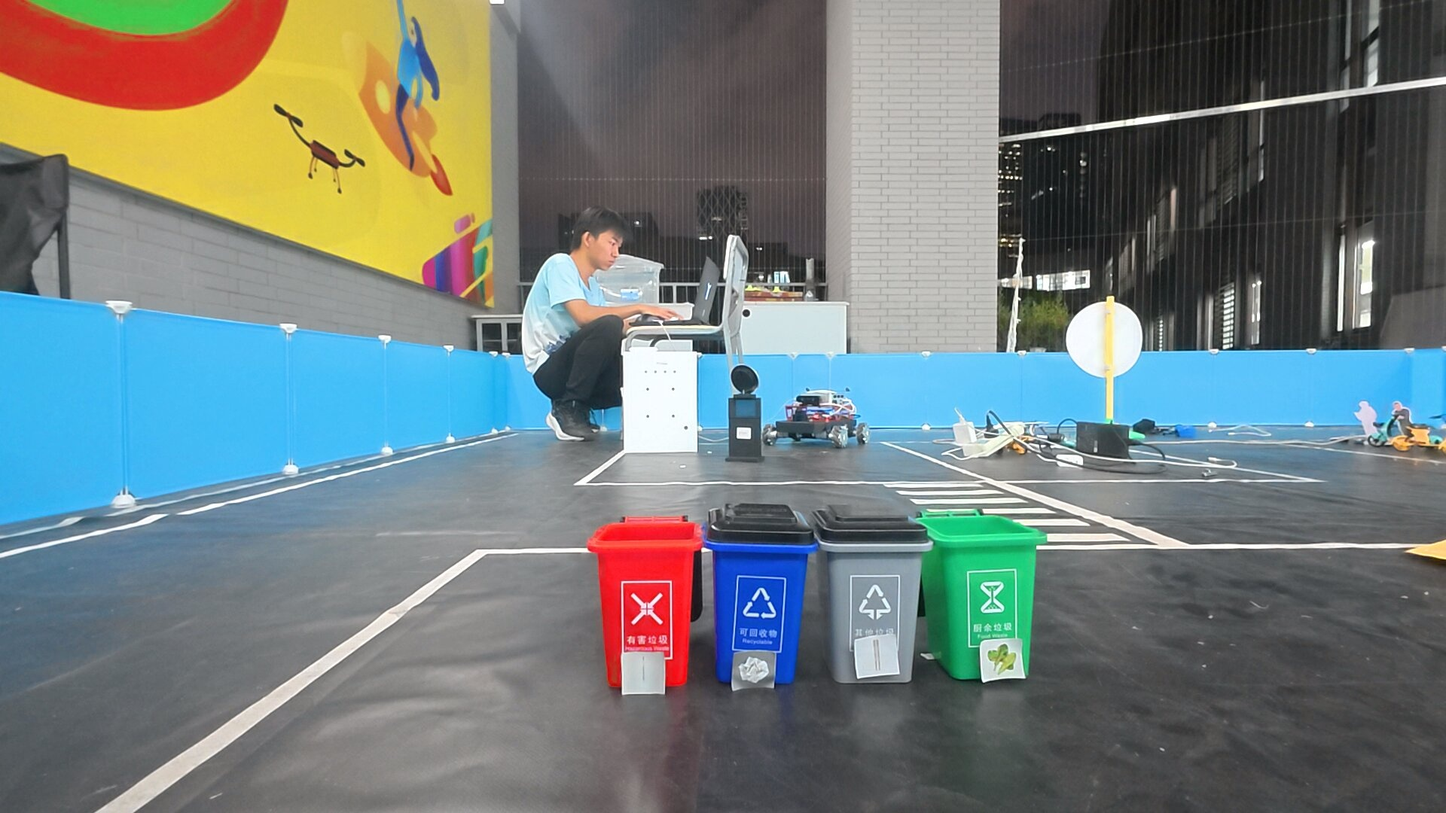food_trash: (981, 643, 1020, 677)
hazardous_trash: (622, 655, 664, 691)
other_trash: (734, 654, 773, 688), (856, 639, 894, 673)
